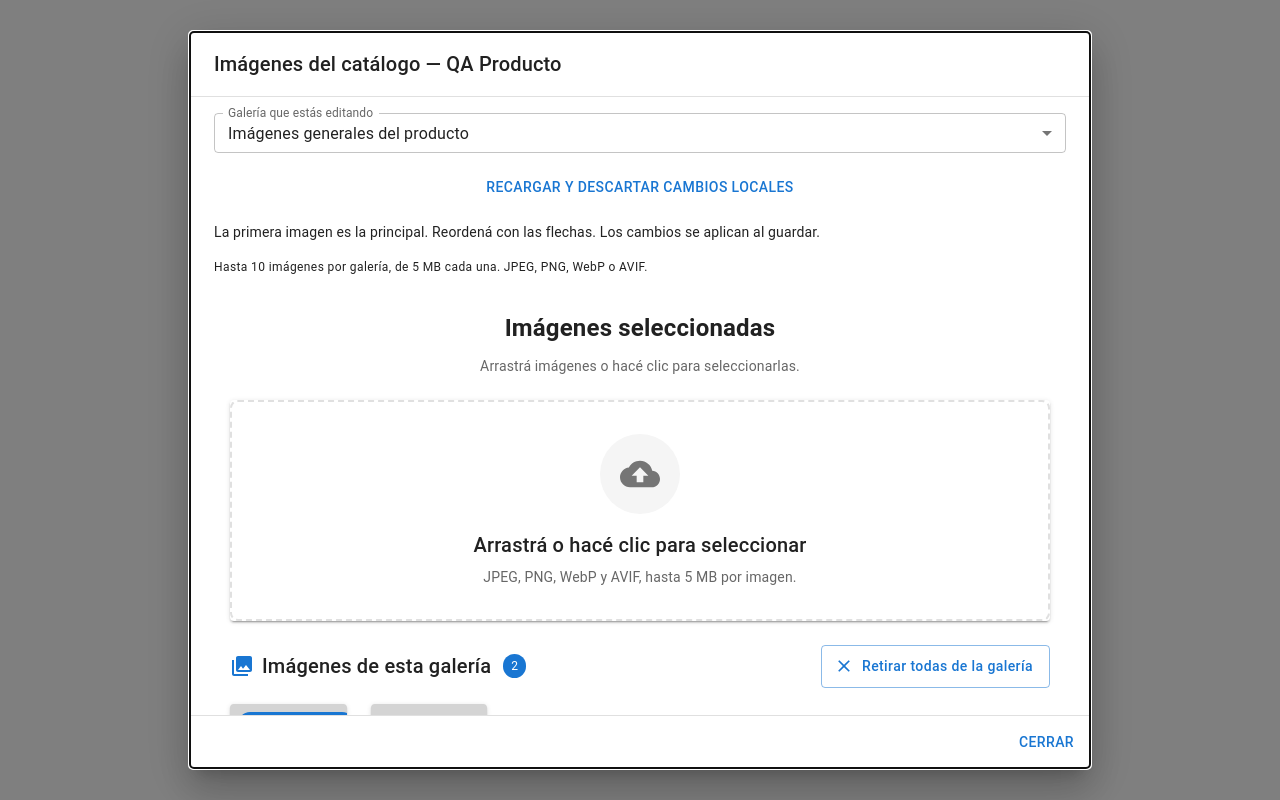
CatalogMediaDialog with shared FilesUploader › shows inherited product images for a variant without adding them as its own
The image size is (1280, 800).
Step 1. Press the mouse on the dropdown named "Galería que estás editando" → [349, 133], box [228, 124, 469, 142]
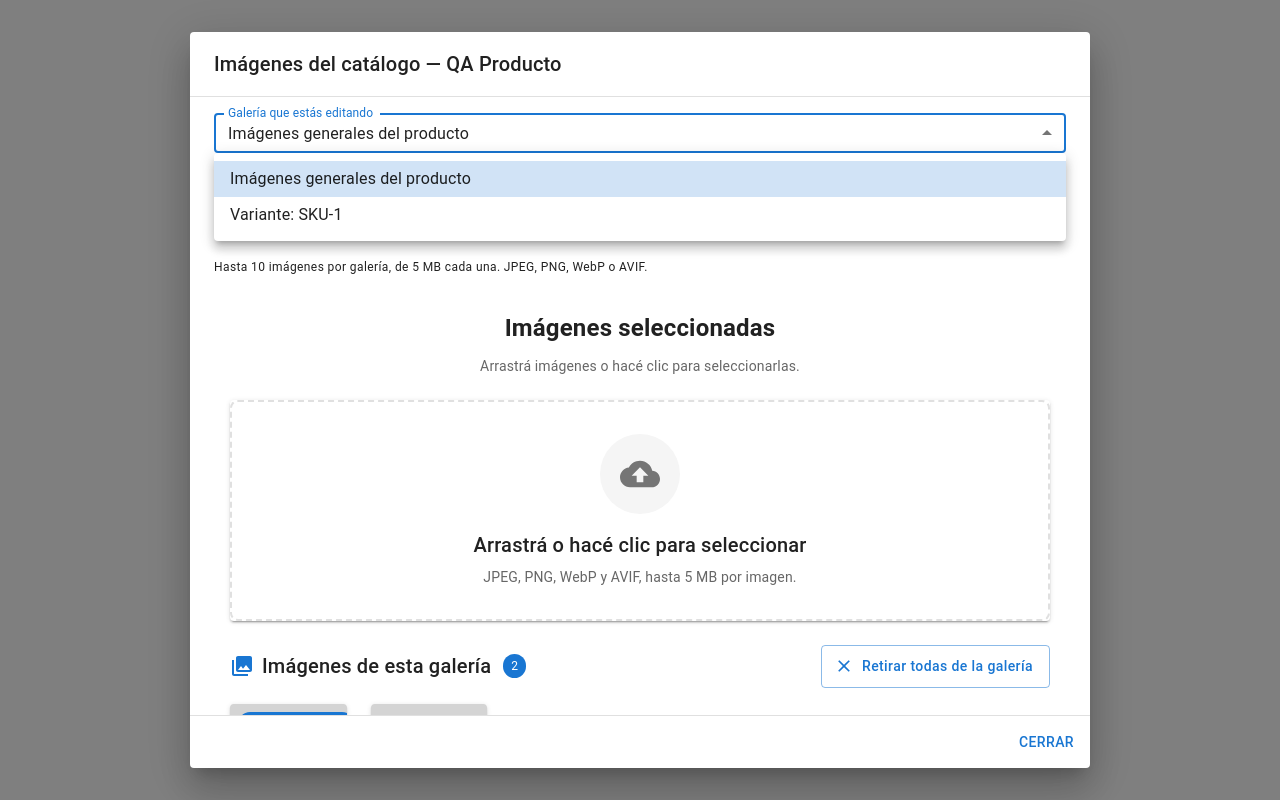
Step 2. Click the option "Variante: SKU-1" → [286, 214], box [230, 205, 343, 224]
(page scrolled)
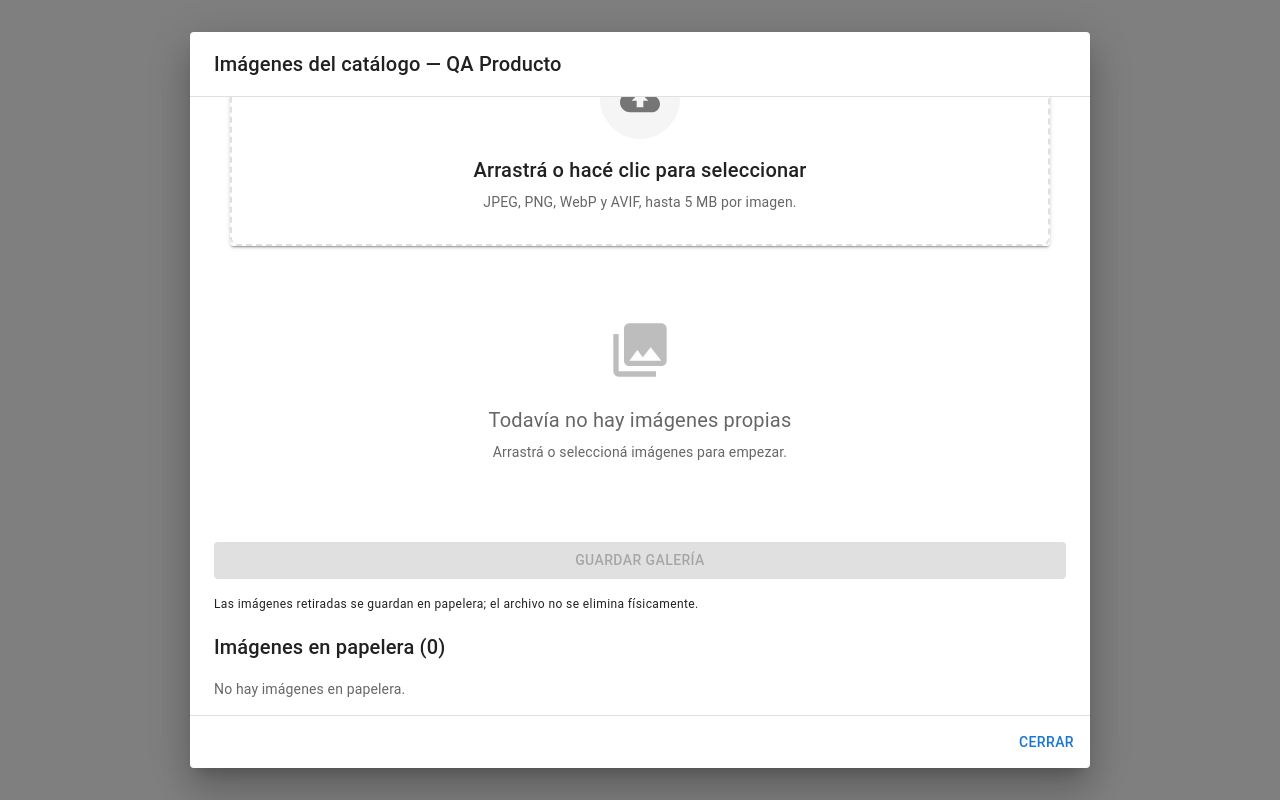
Check: the button "Guardar galería" is disabled, box [214, 542, 1066, 579]
